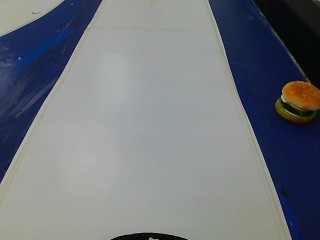burger: (271, 76, 318, 127)
